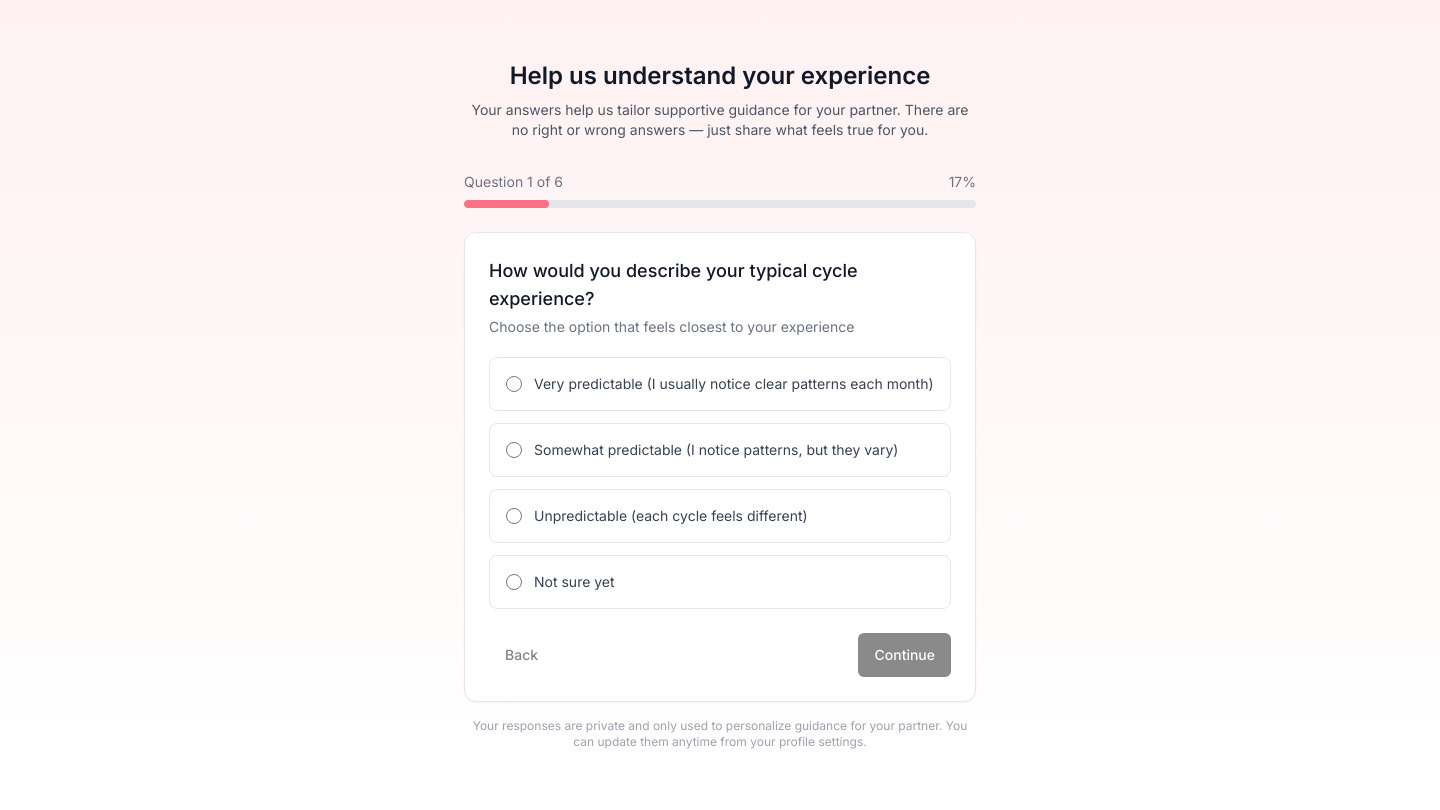
OnboardingPage › renders Q4 as multi-select with checkboxes
// Navigate to Q4
Click the radio button labelled "Not sure yet".
click(514, 582)  # box x1=506 y1=574 x2=522 y2=590
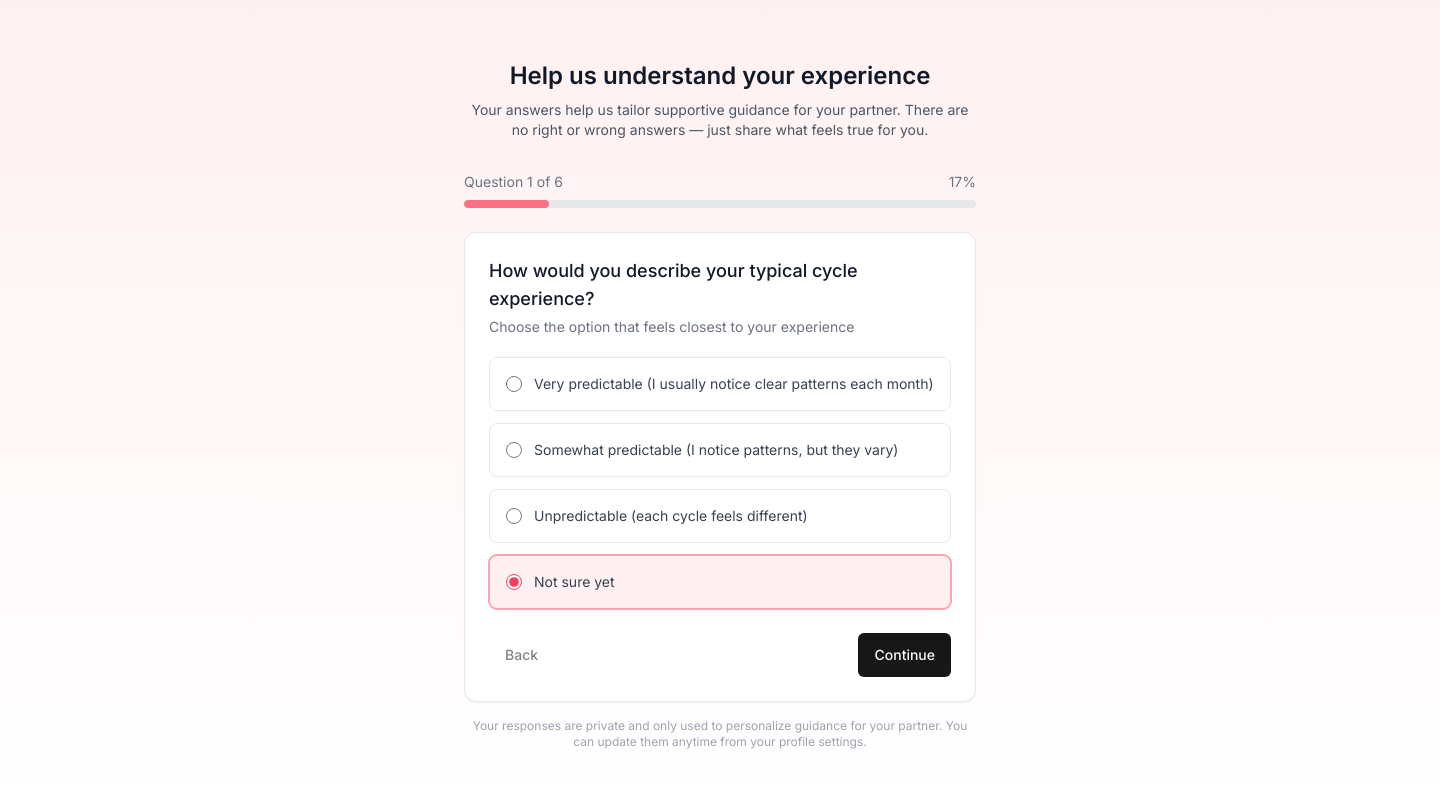
Click the button with aria-label "go to next question".
click(905, 655)  # box x1=858 y1=633 x2=951 y2=677
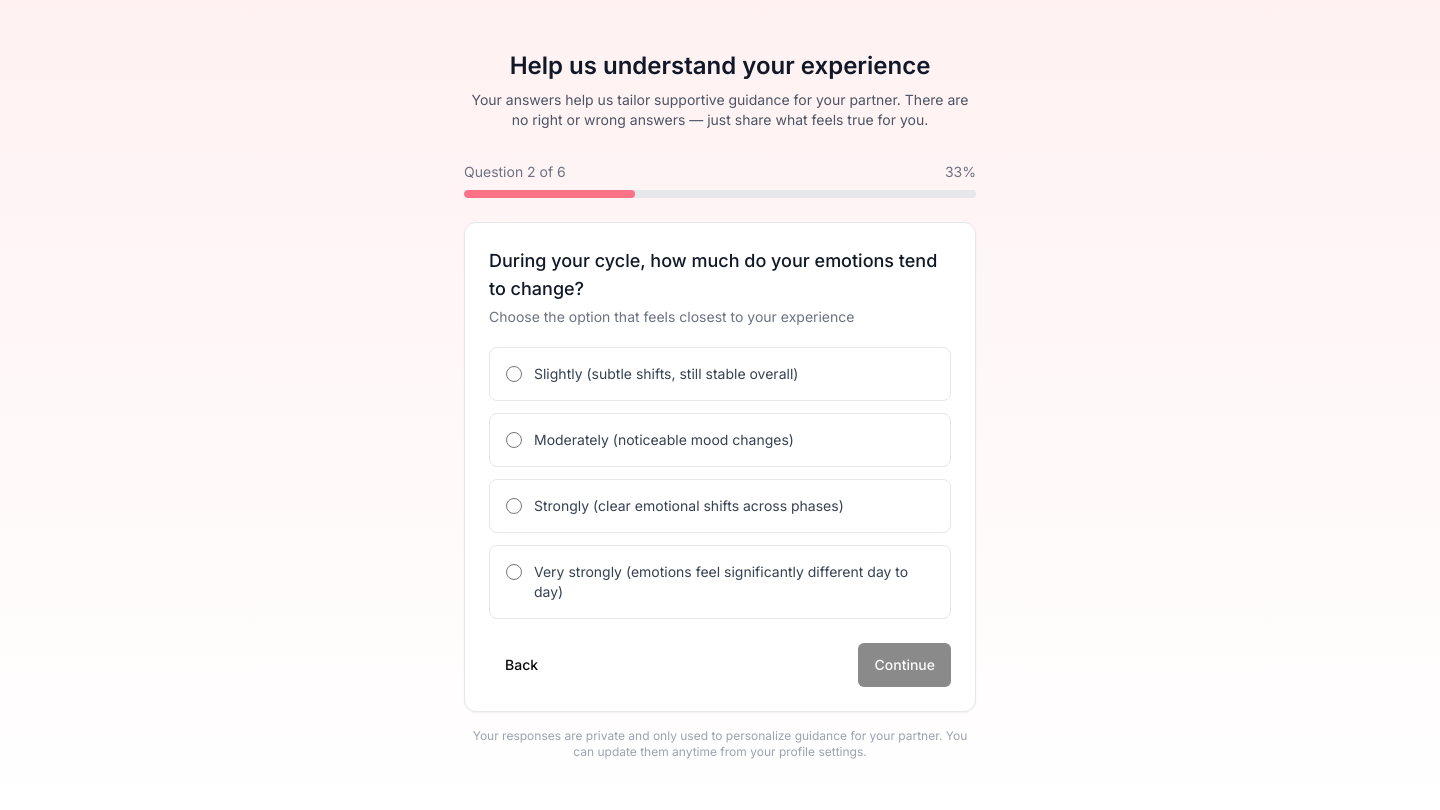
Click the radio button labelled "Slightly (subtle shifts, still stable overall)".
click(514, 374)  # box x1=506 y1=366 x2=522 y2=382
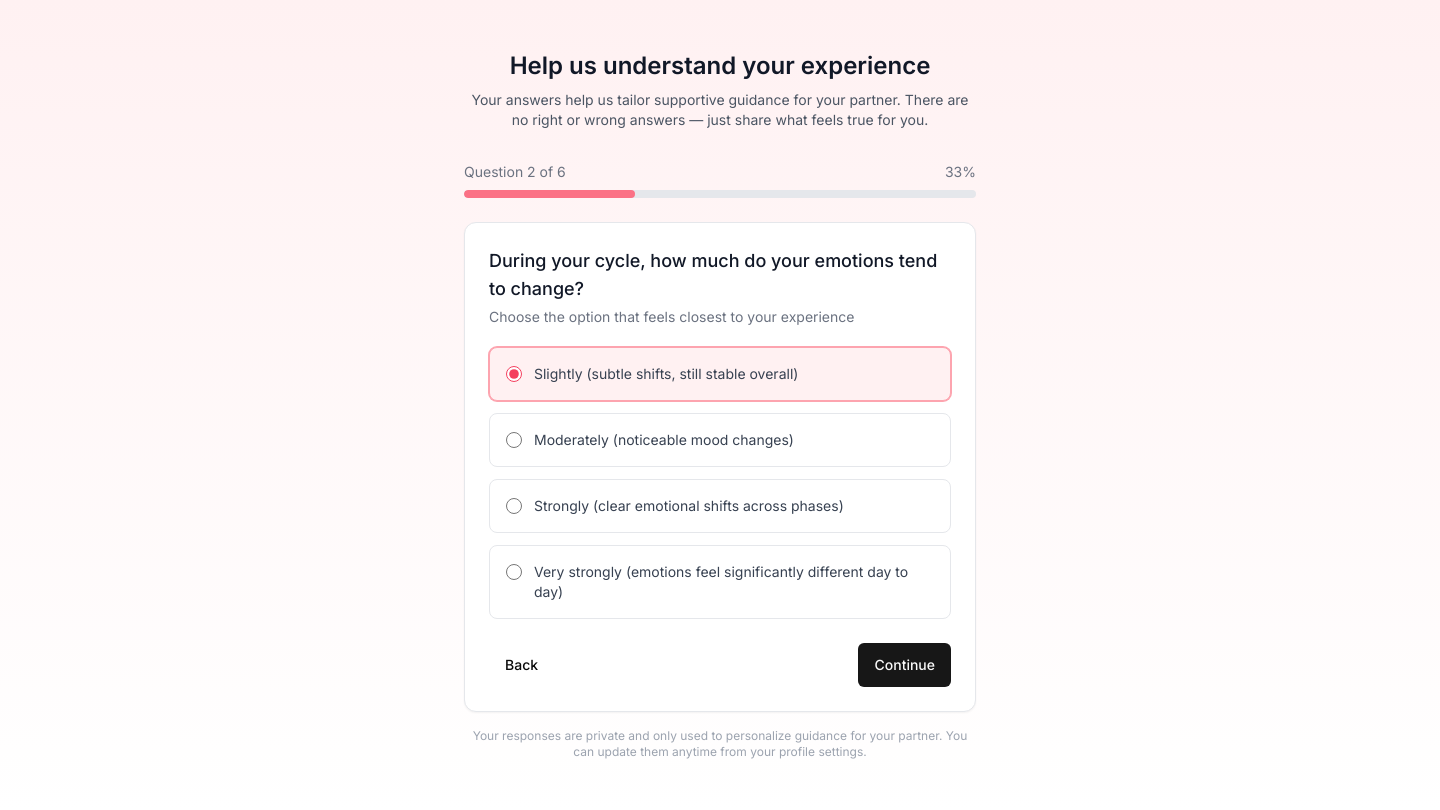
Click the button with aria-label "go to next question".
click(905, 665)  # box x1=858 y1=643 x2=951 y2=687
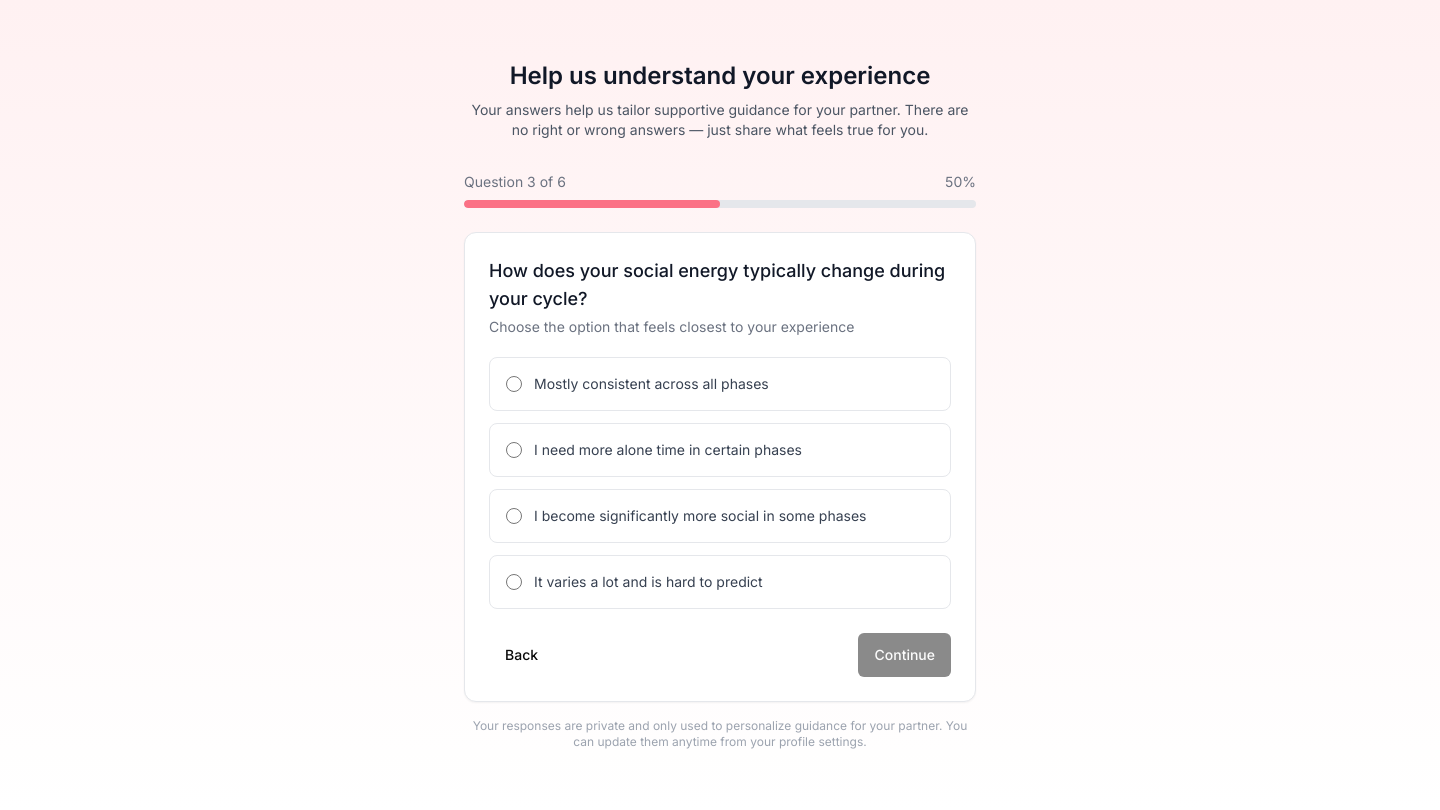
Click the radio button labelled "Mostly consistent across all phases".
click(514, 384)  # box x1=506 y1=376 x2=522 y2=392
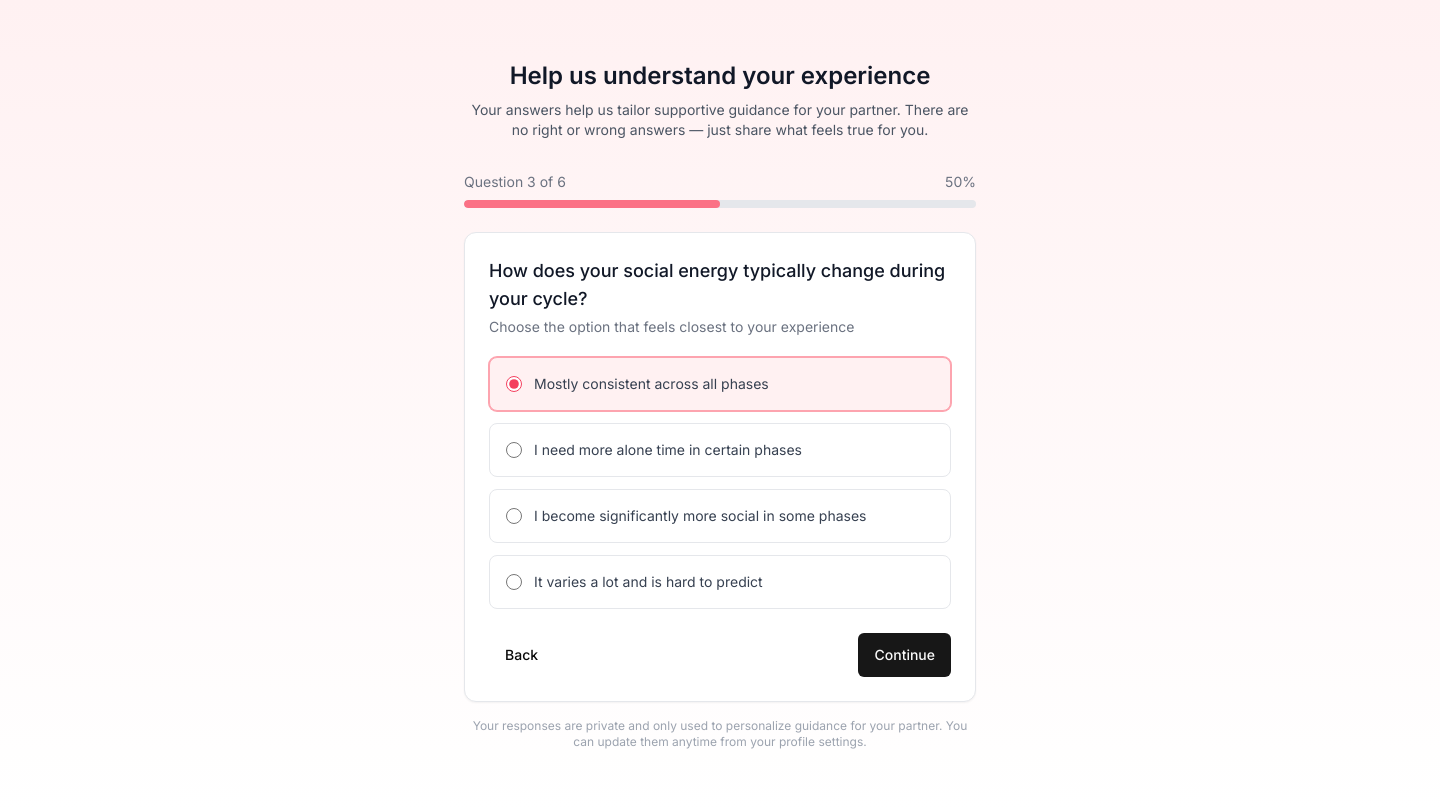
Click the button with aria-label "go to next question".
click(905, 655)  # box x1=858 y1=633 x2=951 y2=677
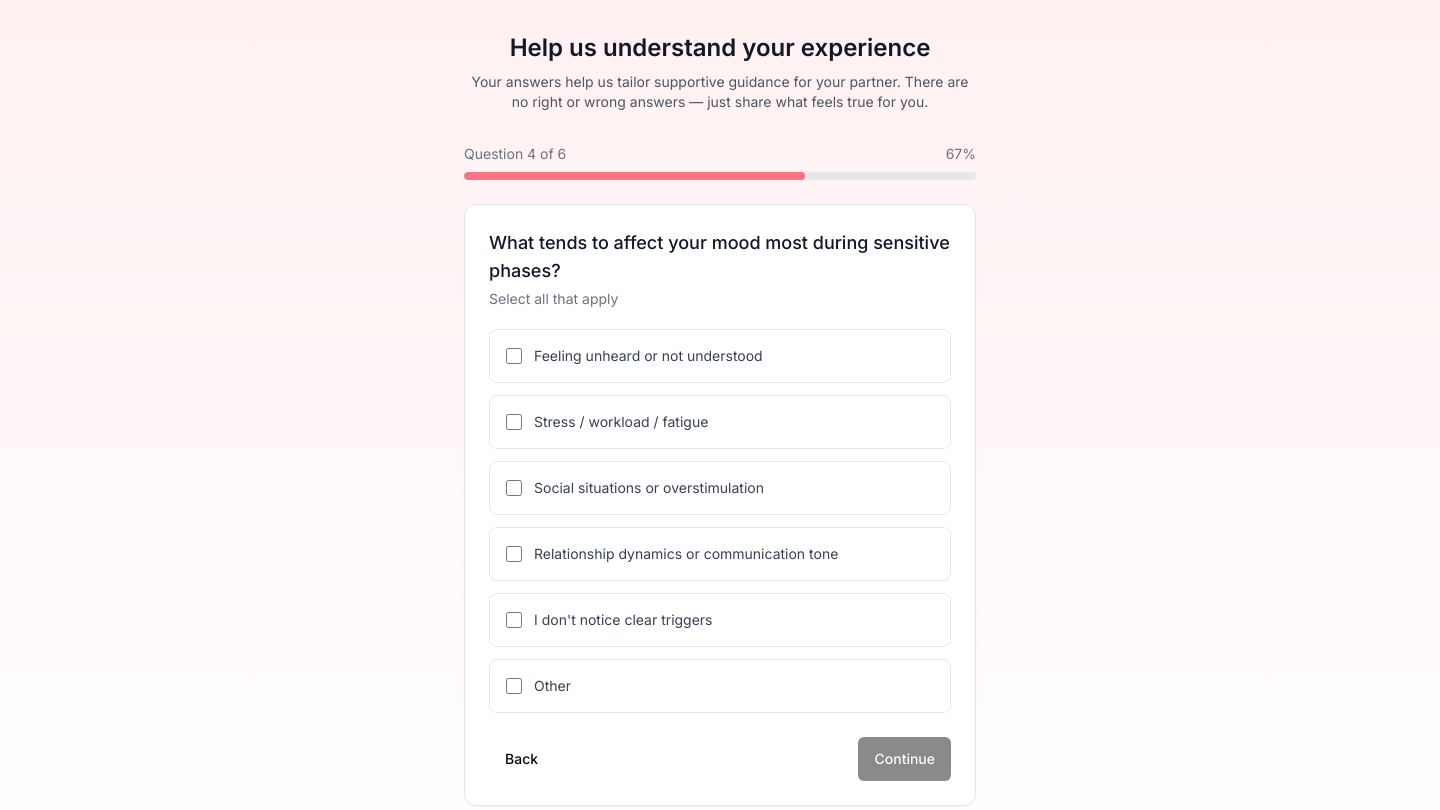
Check: the heading "What tends to affect your mood most during sensitive phases?" is shown, box x1=489 y1=229 x2=951 y2=285
Check: the text "Select all that apply" is shown, box x1=489 y1=290 x2=618 y2=307
Check: the number of checkboxes is 6, box x1=506 y1=348 x2=522 y2=364; x1=506 y1=414 x2=522 y2=430; x1=506 y1=480 x2=522 y2=496; x1=506 y1=546 x2=522 y2=562; x1=506 y1=612 x2=522 y2=628; x1=506 y1=678 x2=522 y2=694
